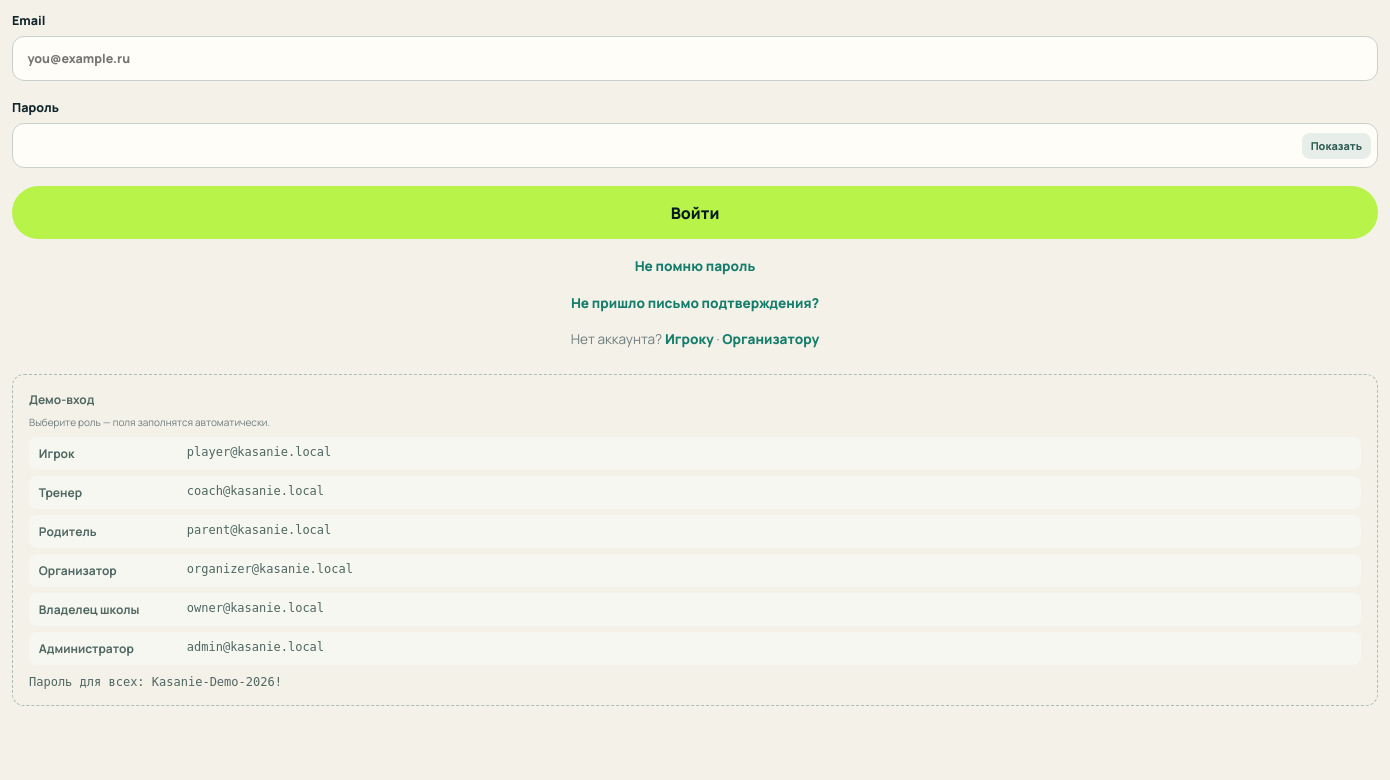
critical workflows › validates login before sending request
Expected: the button "Организатор organizer@kasanie.local" is shown, [29,554,1361,587]
Step 1. Type "incorrect" into the field labelled "Email" → (695, 58), box [12,36,1378,81]
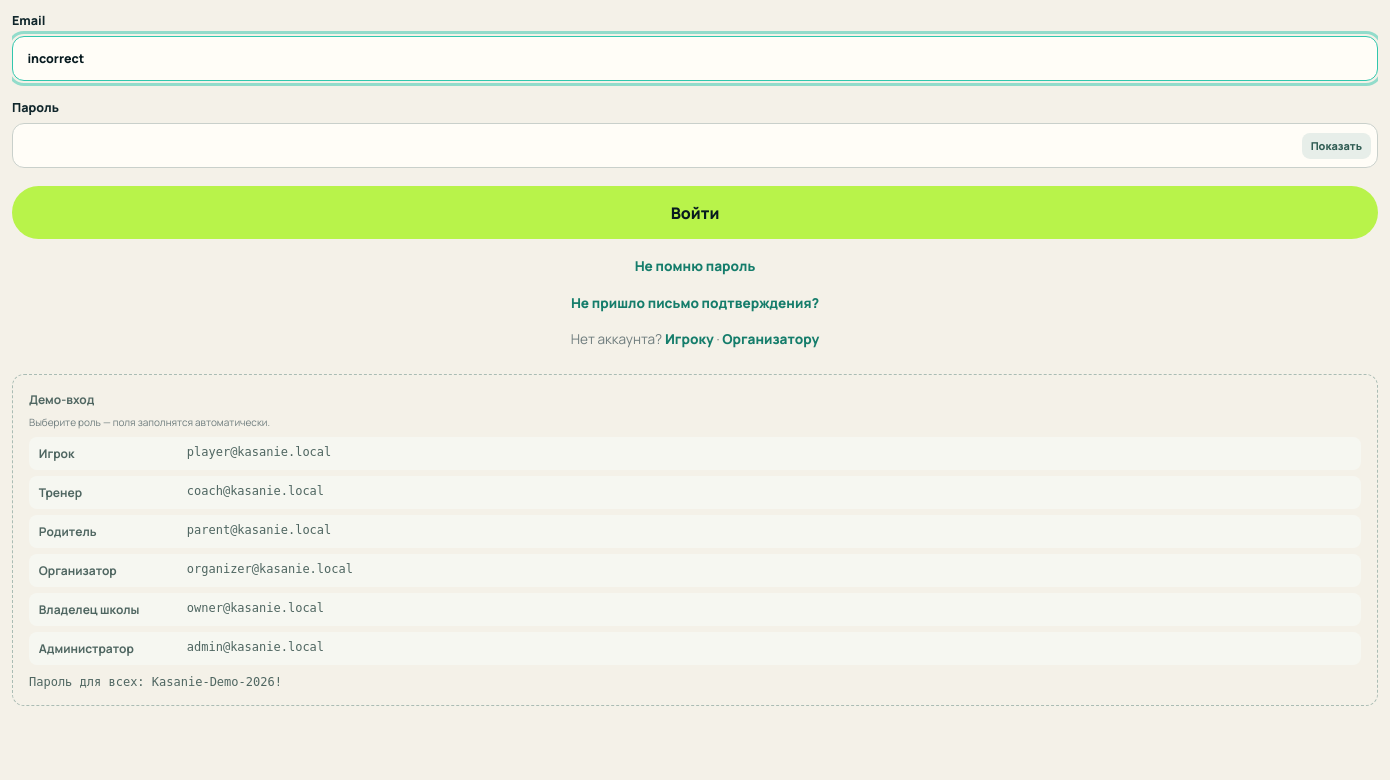
Step 2. Click the button "Войти" → (695, 212), box [12,186,1378,239]
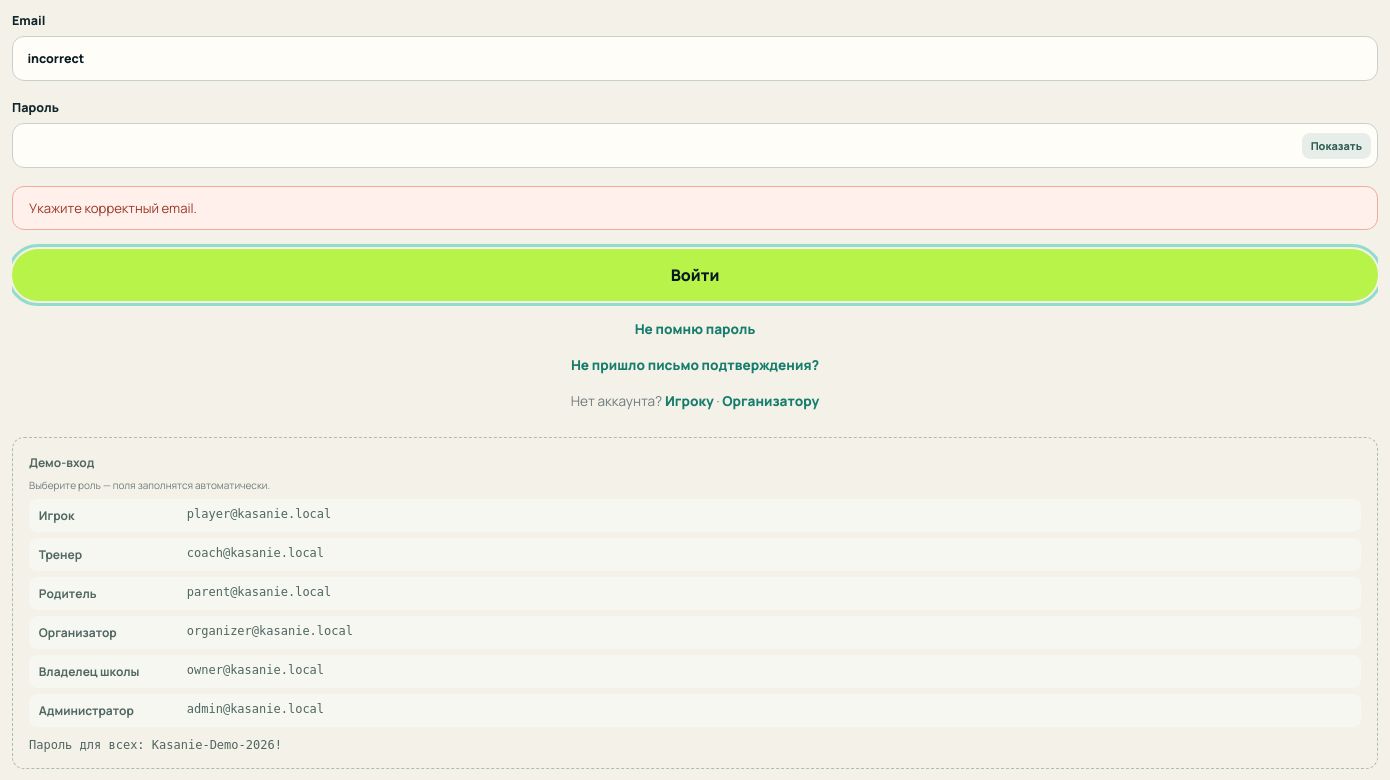
Expected: the message shows "корректный email", [29,199,197,217]
